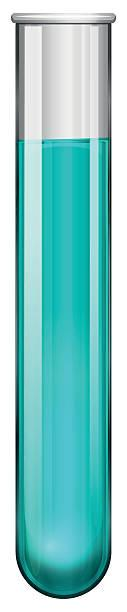Test tube: (2, 31, 117, 598)
